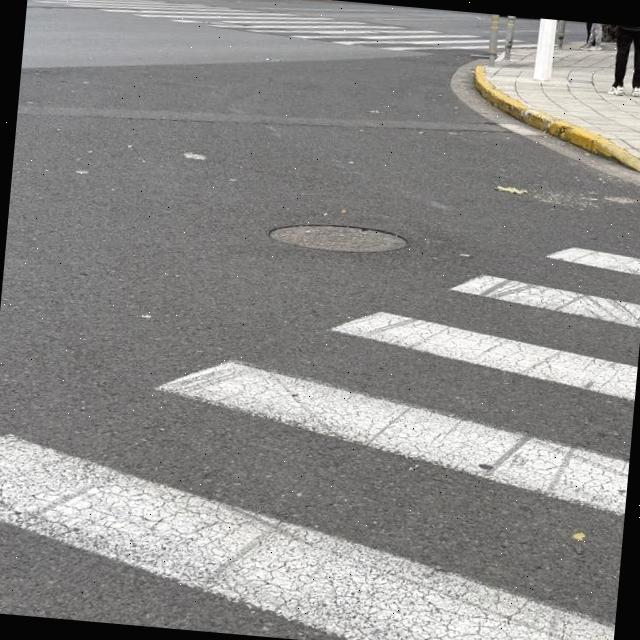curb: (474, 66, 640, 172)
